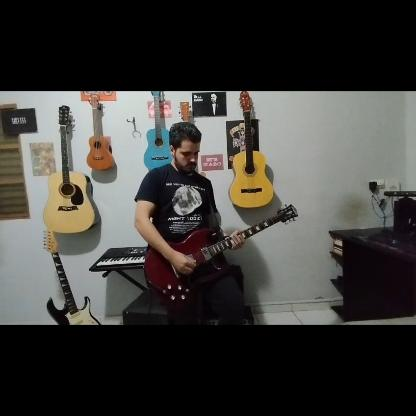acousticguitar: (44, 104, 96, 234), (228, 92, 272, 210), (144, 93, 170, 171)
guitar: (144, 204, 300, 310), (43, 227, 102, 325)
